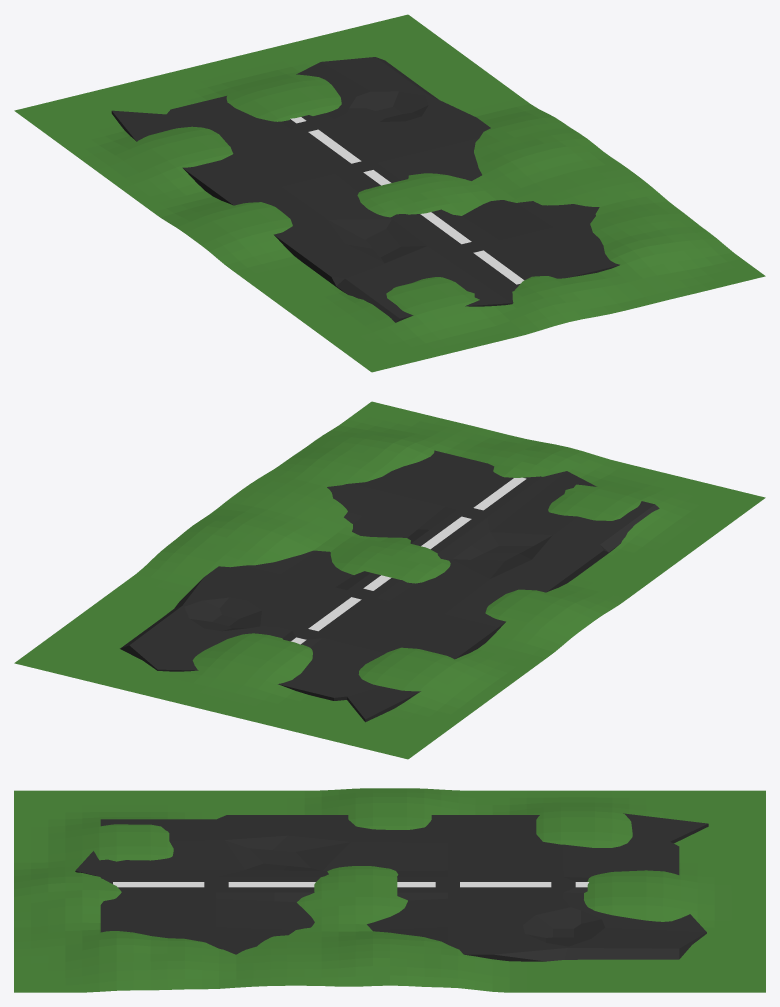
The model's file is road.fbx.
3 views of the same model, one above another, from view 1: azimuth 30°, elevation 25°; view 2: azimuth 150°, elevation 25°; view 3: azimuth 270°, elevation 25° (orthographic). The views are drawn at different scales.
Visible parts, largest first — view 1: Plane, Cube; view 2: Plane, Cube; view 3: Plane, Cube.
Boxes of the visible parts, left/top/right/bottom form: Plane: left=14, top=14, right=765, bottom=372; Cube: left=111, top=57, right=619, bottom=322; Plane: left=14, top=401, right=765, bottom=759; Cube: left=120, top=450, right=659, bottom=722; Plane: left=14, top=788, right=765, bottom=992; Cube: left=75, top=813, right=708, bottom=961.
Size of the model in its own units: 289 by 15.74 by 455.
